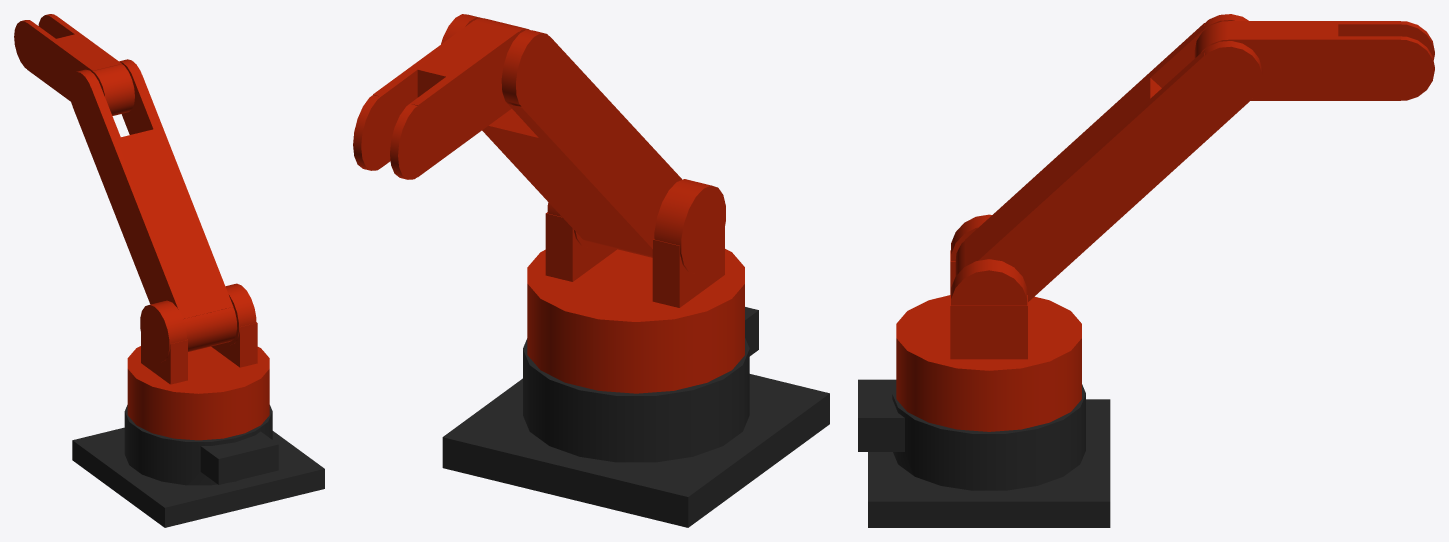
Rendered from robotArm.fbx.
3 views of the same model, side by side, from view 1: azimuth 30°, elevation 25°; view 2: azimuth 150°, elevation 25°; view 3: azimuth 270°, elevation 25° (orthographic). The views are drawn at different scales.
Visible parts, largest first — view 1: arm0, base, base1, arm1; view 2: base, base1, arm0, arm1; view 3: arm0, base, base1, arm1.
Boxes of the visible parts, x1=… form: arm0: x1=69, y1=59, x2=236, y2=351; base: x1=72, y1=405, x2=324, y2=527; base1: x1=127, y1=283, x2=269, y2=440; arm1: x1=14, y1=14, x2=134, y2=115; base: x1=442, y1=307, x2=829, y2=527; base1: x1=527, y1=179, x2=744, y2=393; arm0: x1=441, y1=14, x2=682, y2=257; arm1: x1=353, y1=18, x2=529, y2=179; arm0: x1=955, y1=14, x2=1262, y2=301; base: x1=858, y1=379, x2=1110, y2=527; base1: x1=896, y1=214, x2=1081, y2=431; arm1: x1=1194, y1=21, x2=1434, y2=100.
Bounding box in the file's own units: 9.84 × 23.42 × 20.01.
